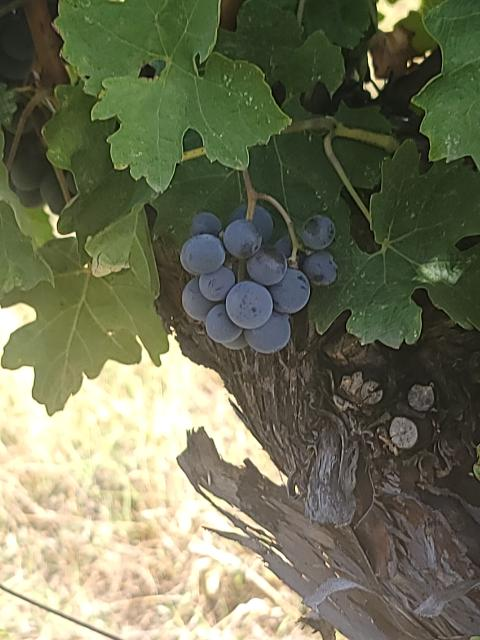grapes: (180, 206, 310, 354), (301, 215, 336, 285)
